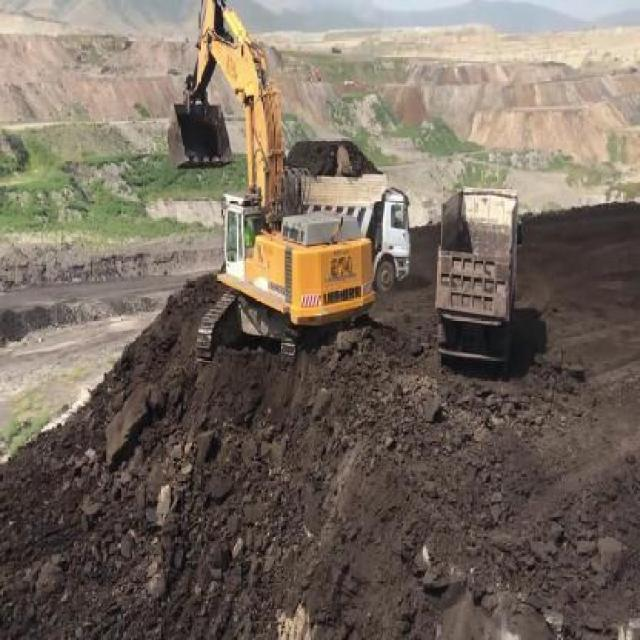dump_truck: (284, 138, 416, 293), (432, 183, 526, 369)
excavator: (160, 0, 377, 378)
